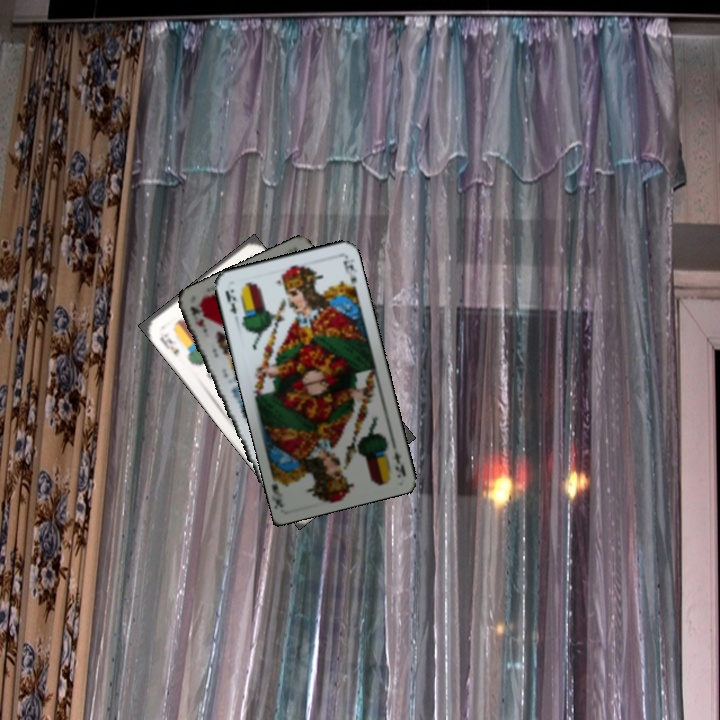EK: (155, 333, 182, 358), (388, 448, 408, 477), (221, 286, 239, 316)
HK: (186, 300, 209, 336)
